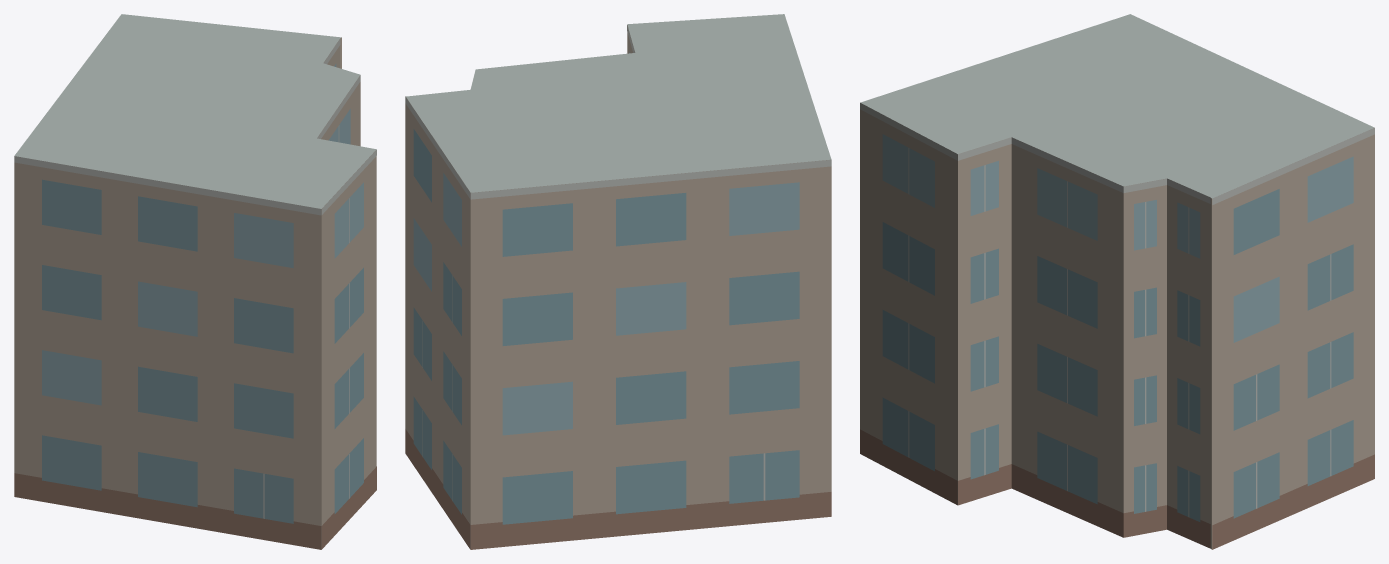
Rendered from survey-upis-32590187.glb.
3 views of the same model, side by side, from view 1: azimuth 30°, elevation 25°; view 2: azimuth 150°, elevation 25°; view 3: azimuth 270°, elevation 25° (orthographic). The views are drawn at different scales.
Parts seen in each view (by area): view 1: survey-upis-32590187.tmp; view 2: survey-upis-32590187.tmp; view 3: survey-upis-32590187.tmp.
Boxes of the visible parts, box(x1,y1,x2,y2) form: survey-upis-32590187.tmp: box(14, 14, 376, 549); survey-upis-32590187.tmp: box(405, 14, 831, 549); survey-upis-32590187.tmp: box(860, 14, 1374, 549).
Bounding box in the file's own units: 14.44 × 12.8 × 17.01.
